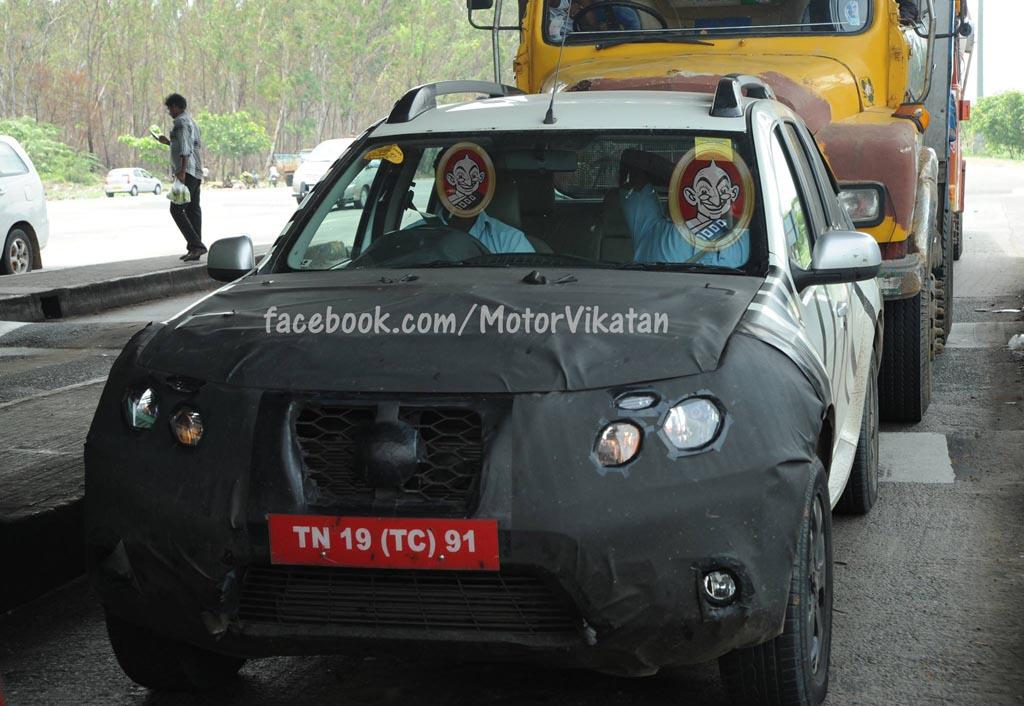licence-plate: (267, 508, 500, 572)
